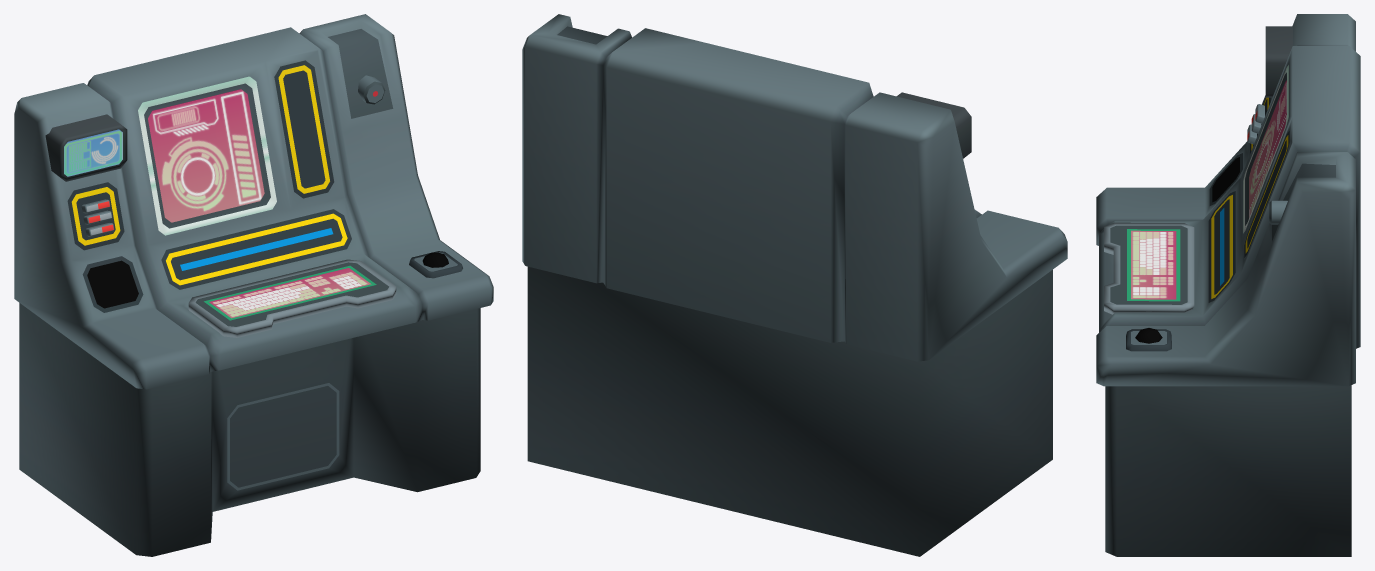
File: Terminal_014.fbx
3 renders of one model, left to right at view 1: azimuth 30°, elevation 25°; view 2: azimuth 150°, elevation 25°; view 3: azimuth 270°, elevation 25°, orthographic. The views are drawn at different scales.
Parts seen in each view (by area): view 1: Terminal_014; view 2: Terminal_014; view 3: Terminal_014.
Part boxes in pixels (x1=…): Terminal_014: x1=14, y1=14, x2=493, y2=556; Terminal_014: x1=522, y1=14, x2=1067, y2=556; Terminal_014: x1=1096, y1=14, x2=1360, y2=556.
Bounding box in the file's own units: 140 × 89.52 × 142.
